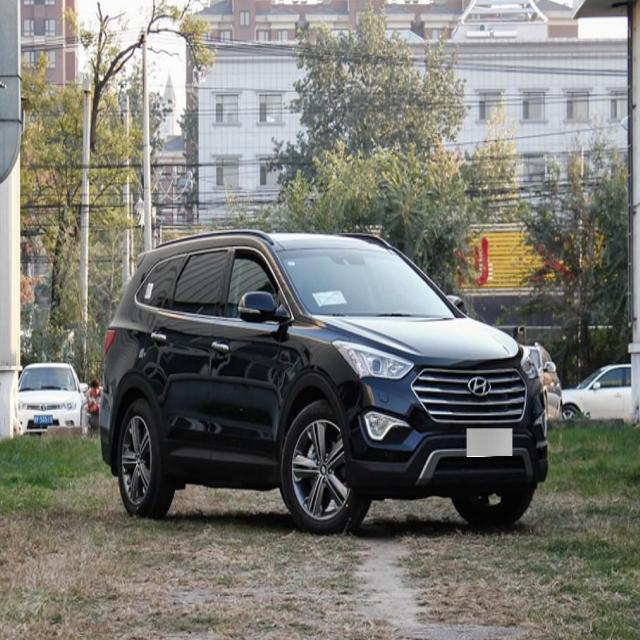back_right_side_light: (102, 325, 122, 359)
door: (141, 249, 232, 479)
front_bumper: (341, 425, 549, 490)
front_glass: (274, 245, 459, 320)
front_left_side_light: (516, 342, 548, 384)
front_left_side_mirror: (446, 294, 472, 319)
front_right_side_door: (208, 235, 298, 494)
front_right_side_light: (328, 336, 416, 384)
front_right_side_mirror: (238, 288, 291, 338)
wheel: (280, 394, 376, 534), (114, 390, 175, 520), (448, 486, 541, 528)
